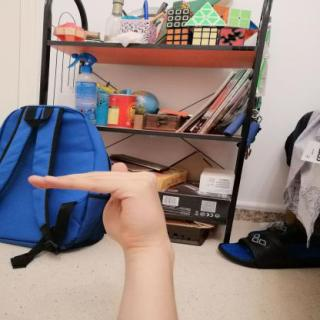KHAA: (20, 158, 179, 254)
